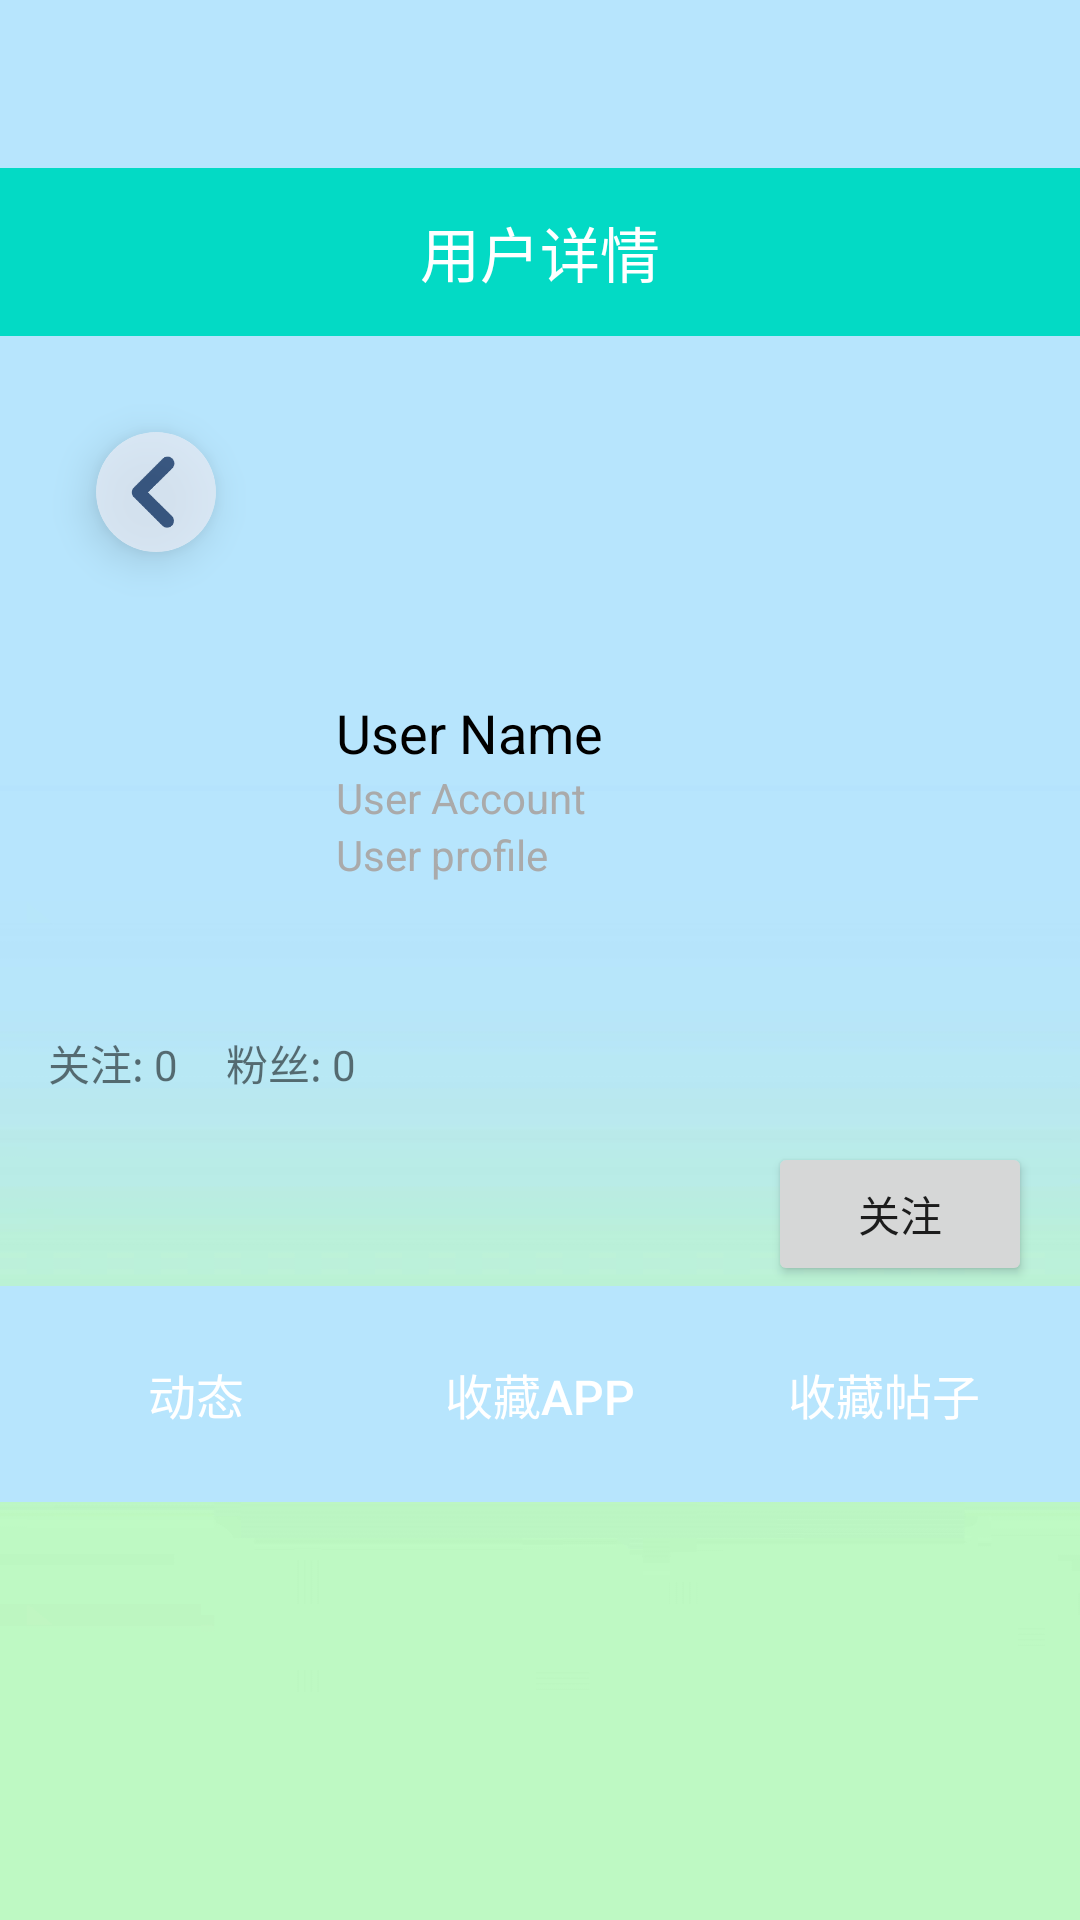

Named icons in this screenshot (1080x1920) and their bounding boxes, bbox(x1, y1, x2, y2):
backbutton: bbox(96, 432, 216, 552)
